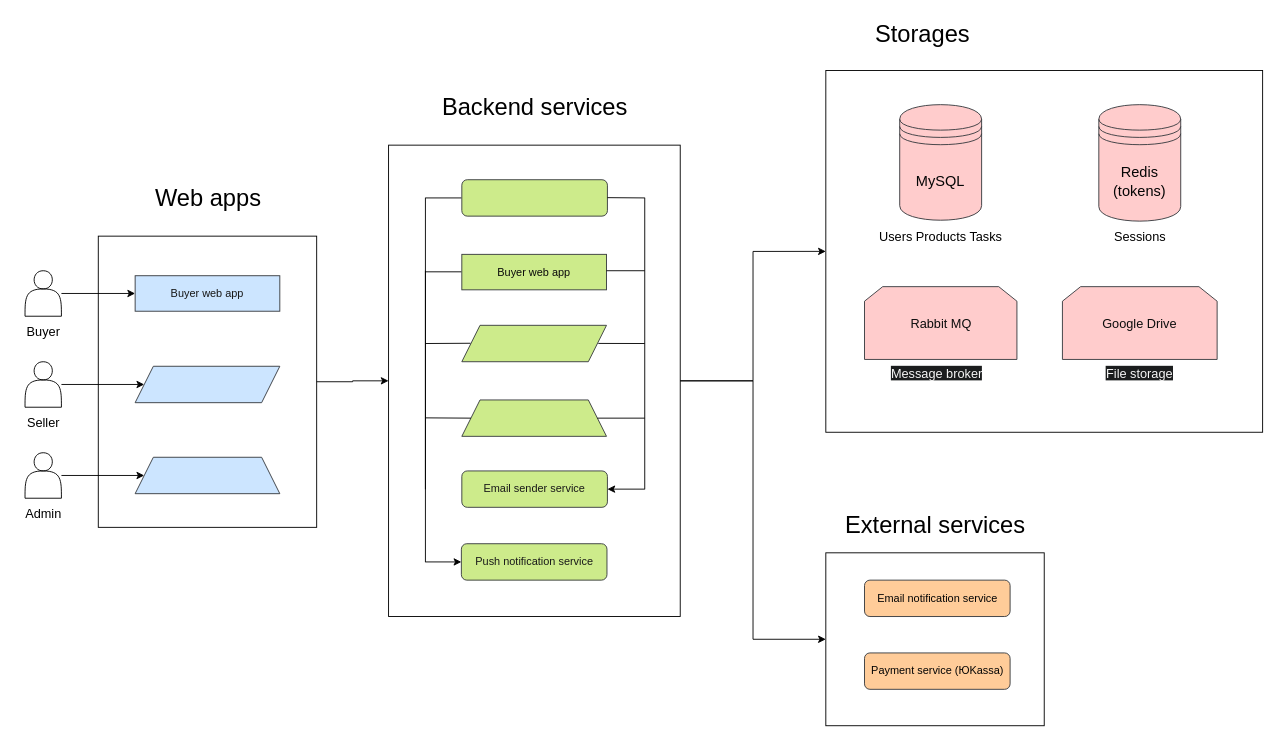
The diagram is 1279 pixels wide and 742 high, and some of its shapes have lost their labels. Each missing label, with the centre of its shape:
"Admin backend" belongs at [534,417].
"Admin web app" belongs at [207,475].
"Authorization REST API" belongs at [534,197].
"Seller backend" belongs at [534,343].
"Seller web app" belongs at [207,384].
